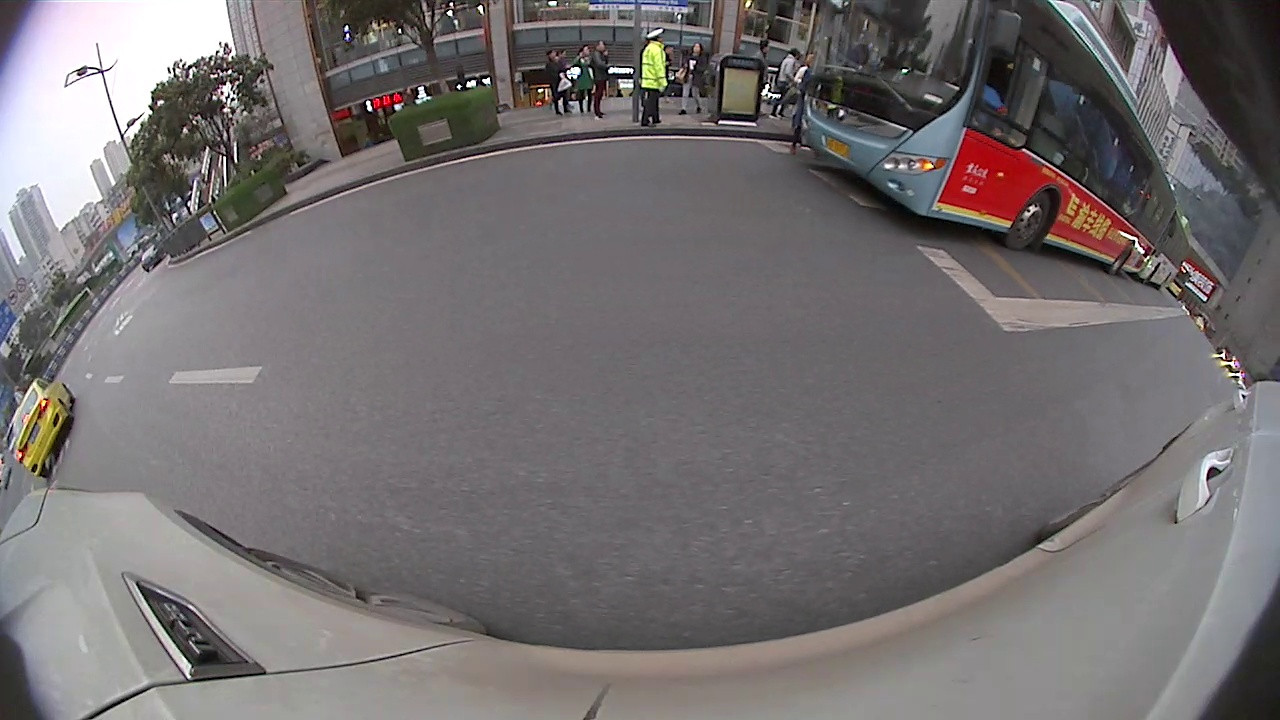car: (764, 92, 1084, 326), (211, 76, 451, 212), (708, 70, 856, 144), (27, 284, 89, 349), (1096, 256, 1140, 308)
front: (338, 124, 385, 178), (1034, 287, 1080, 323)
rear: (881, 224, 957, 288), (228, 170, 266, 210), (755, 110, 788, 145)
